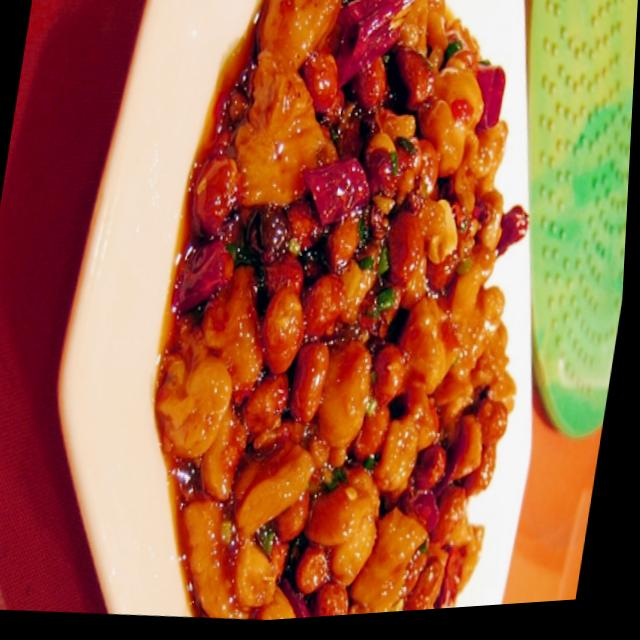鸡肉料理 含炸鸡: (120, 0, 566, 632)
